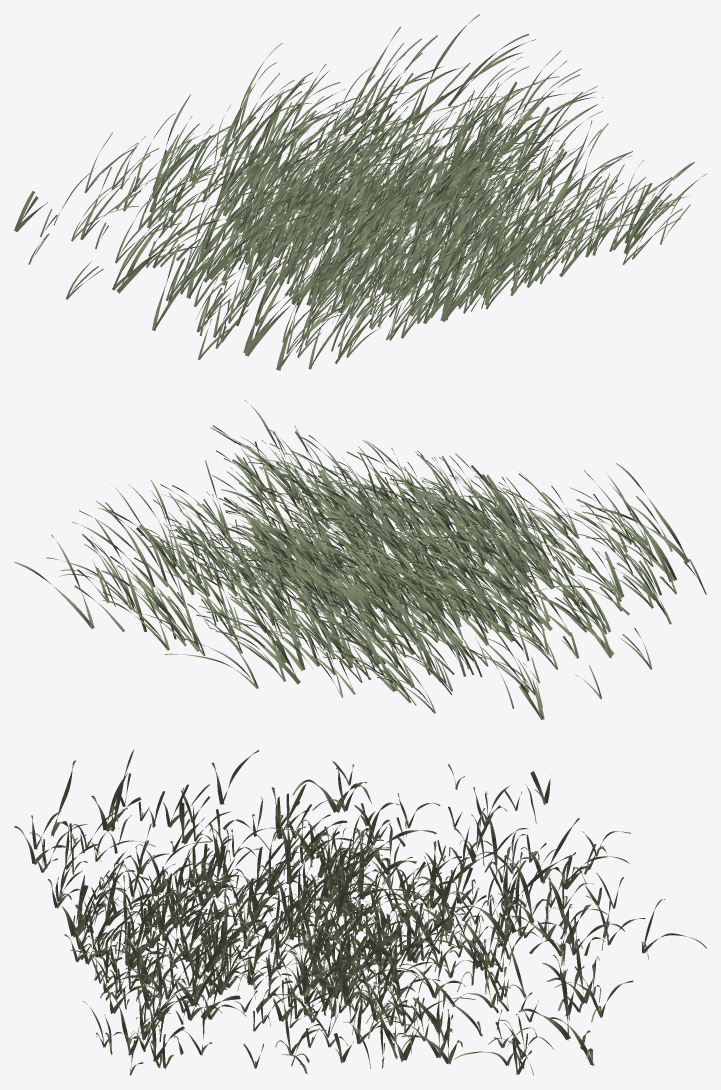
Rendered from Grass.fbx.
The picture shows the model from 3 angles, top to bottom: view 1: azimuth 30°, elevation 25°; view 2: azimuth 150°, elevation 25°; view 3: azimuth 270°, elevation 25°; orthographic projection. The views are drawn at different scales.
Parts seen in each view (by area): view 1: grassCarpet1Main, grassCarpet2Main; view 2: grassCarpet1Main, grassCarpet2Main; view 3: grassCarpet1Main, grassCarpet2Main.
Boxes of the visible parts, x1=… form: grassCarpet1Main: x1=152, y1=86, x2=706, y2=370; grassCarpet2Main: x1=14, y1=14, x2=611, y2=299; grassCarpet1Main: x1=128, y1=400, x2=706, y2=636; grassCarpet2Main: x1=14, y1=479, x2=652, y2=719; grassCarpet1Main: x1=14, y1=749, x2=475, y2=1075; grassCarpet2Main: x1=274, y1=761, x2=706, y2=1075.
Bounding box in the file's own units: 82.96 × 14.54 × 73.66.
